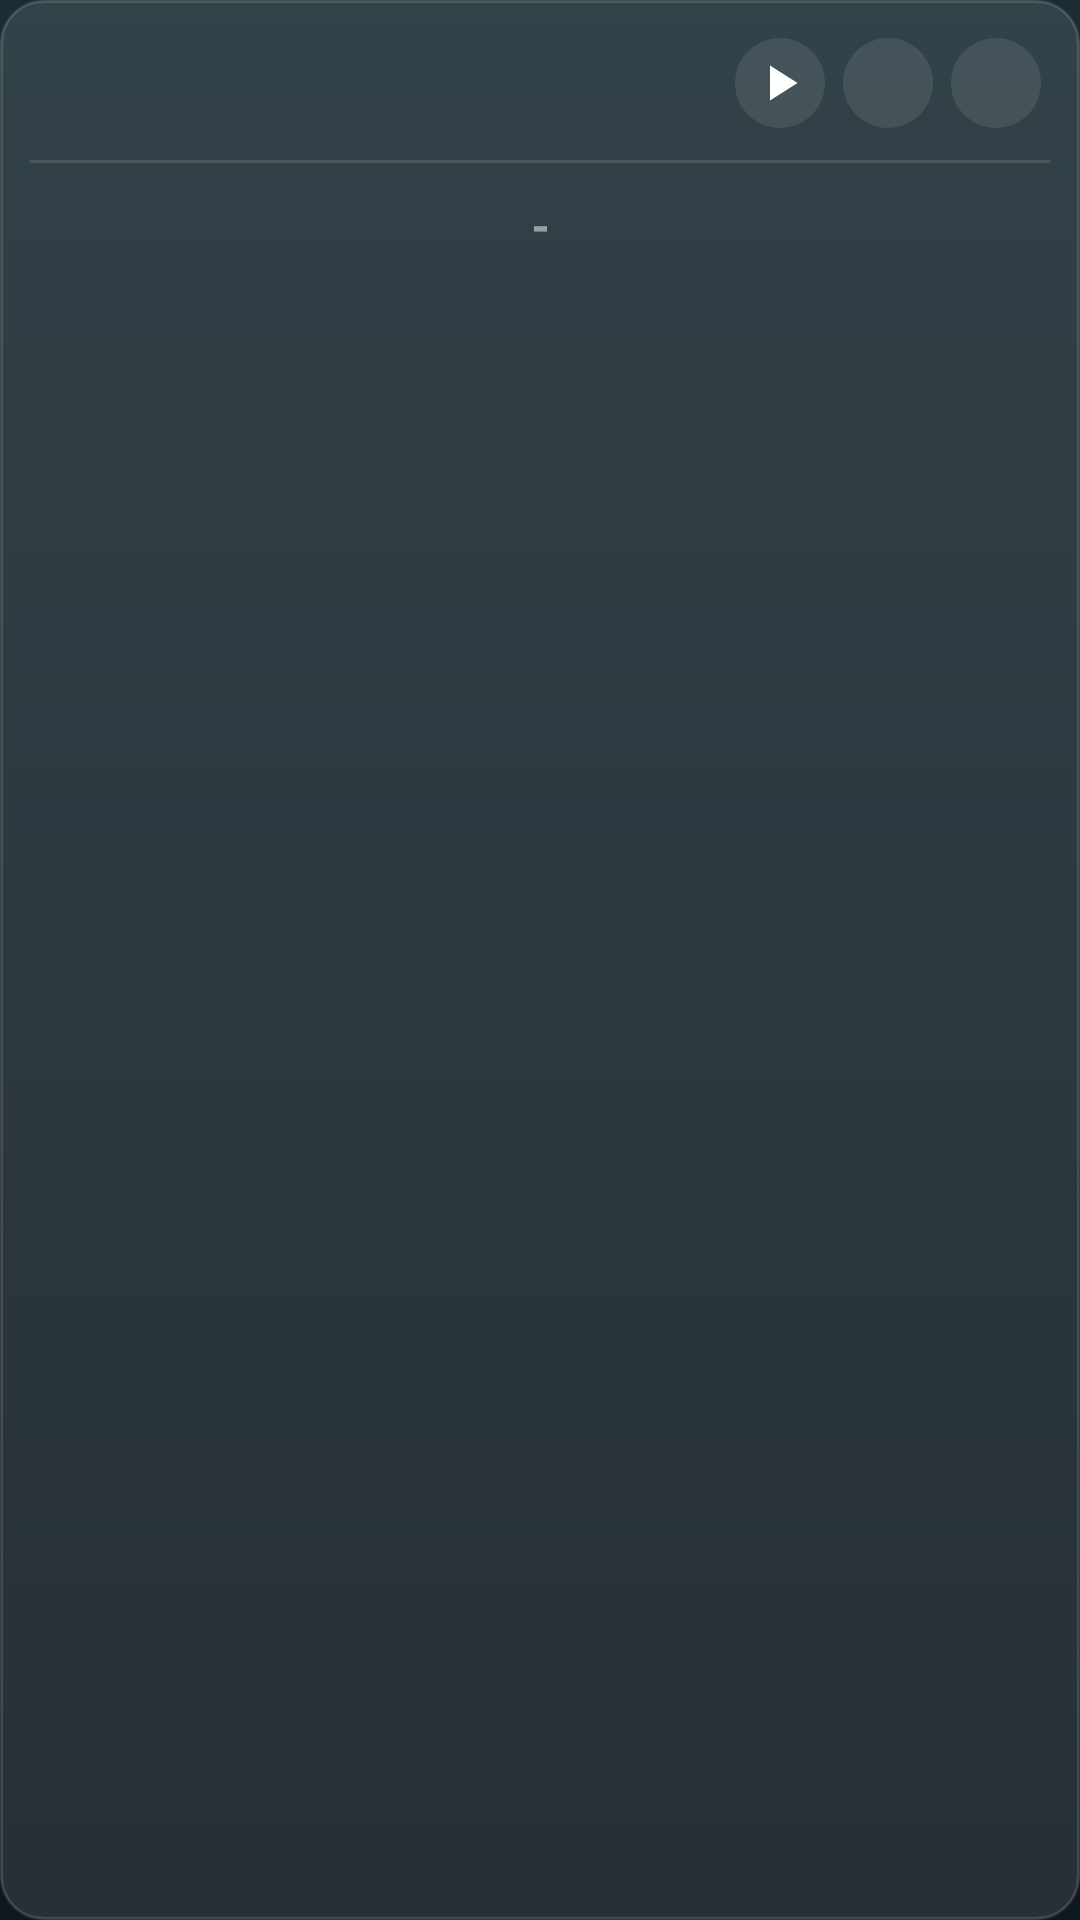

Screen size 1080 × 1920. Icon name, then its center in pixels as [x,y]:
PLAY: [784,83]
